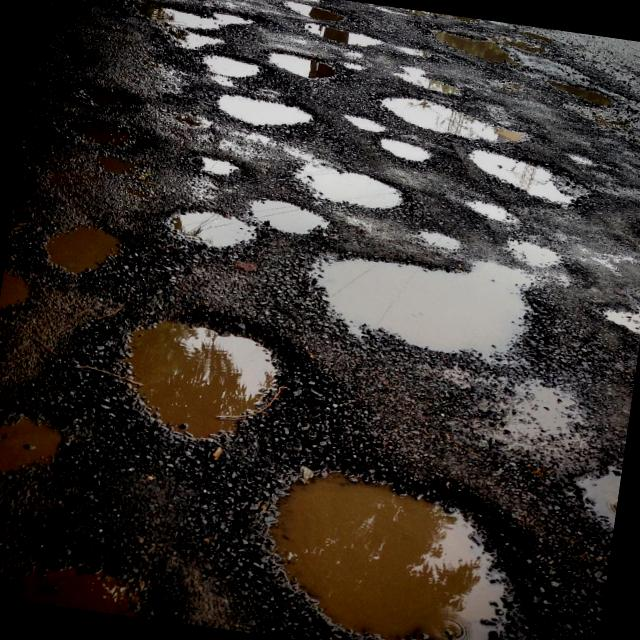bad-road: (237, 454, 557, 640), (101, 294, 307, 454), (306, 245, 558, 368), (0, 541, 156, 619), (50, 76, 164, 173), (374, 89, 541, 147), (462, 144, 602, 210), (292, 158, 412, 214), (39, 212, 130, 284), (154, 197, 264, 256), (146, 0, 264, 54), (0, 401, 72, 485), (213, 85, 322, 135), (566, 454, 624, 544), (422, 24, 518, 70), (176, 148, 254, 194), (262, 198, 334, 238), (544, 75, 624, 111), (264, 47, 346, 81), (300, 22, 388, 49), (195, 49, 260, 82), (374, 135, 438, 166), (0, 264, 36, 318), (594, 300, 640, 342), (272, 0, 352, 24)
